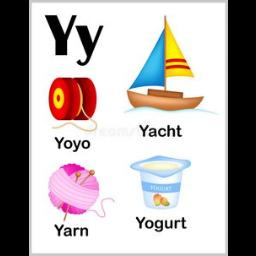y: (40, 10, 76, 56)
